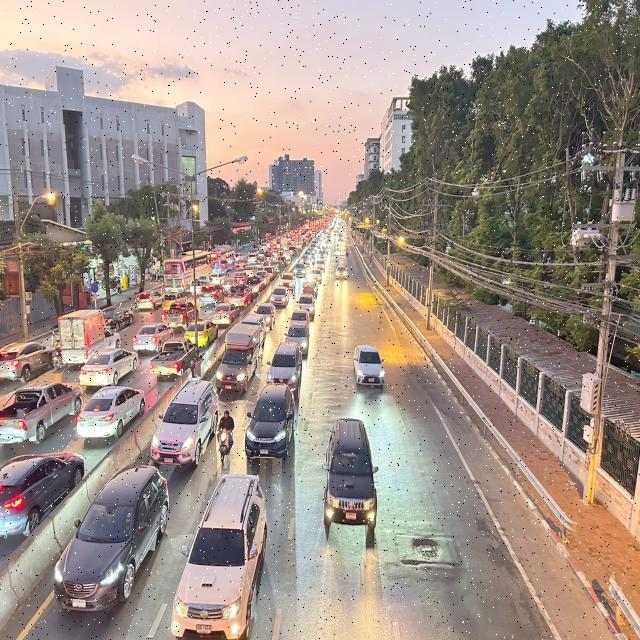bike: (214, 405, 238, 470)
truck: (212, 322, 260, 397)
